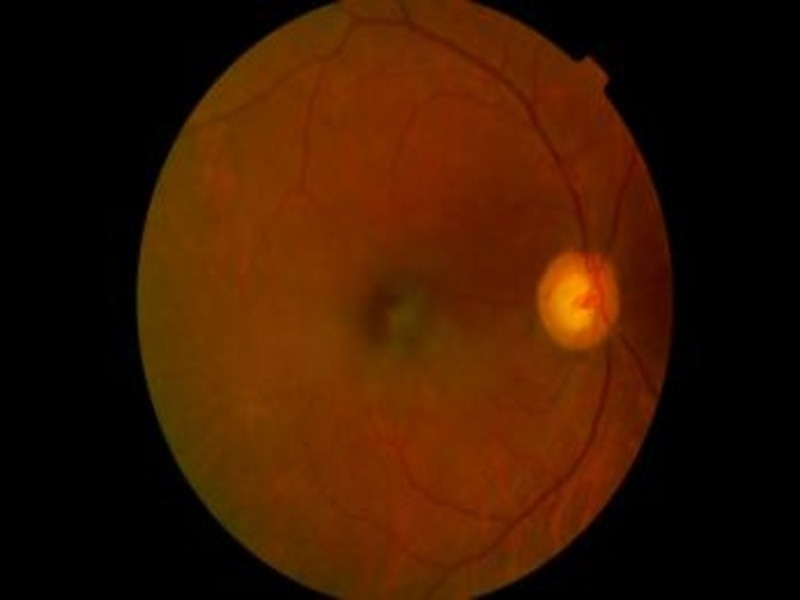Optic Cup: (552, 274, 594, 330)
Optic Disc: (536, 250, 621, 350)
